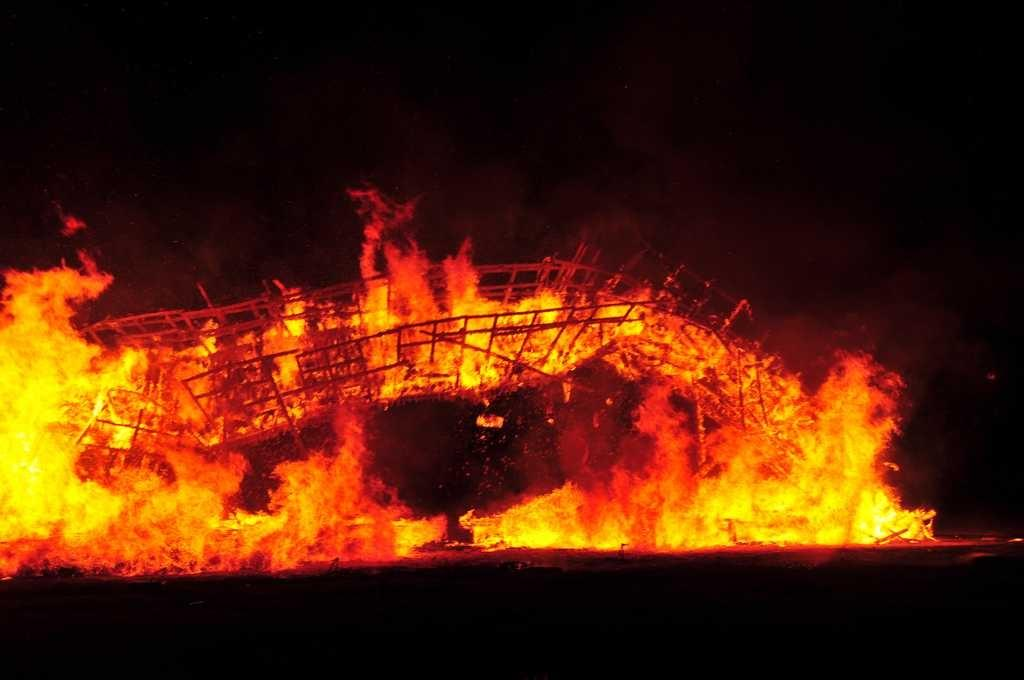fire: (13, 272, 222, 578), (602, 357, 893, 532), (292, 288, 580, 378), (255, 448, 393, 560)
